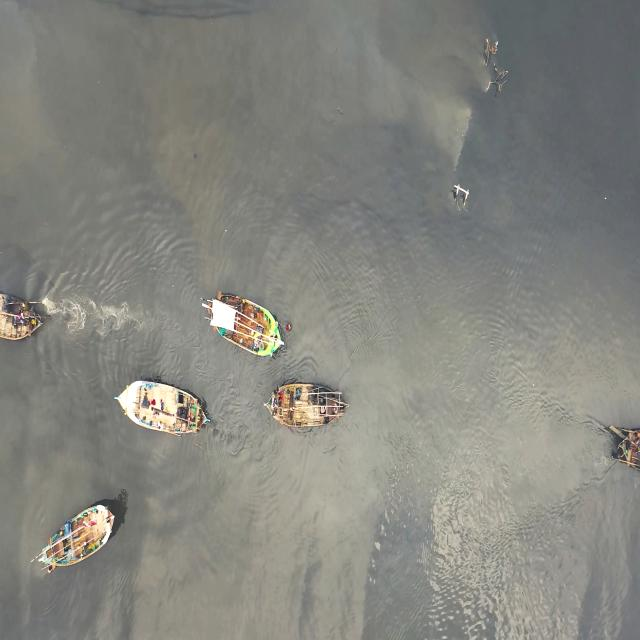ship: (25, 495, 125, 578), (112, 378, 212, 448), (208, 286, 284, 354), (270, 382, 347, 428), (609, 422, 640, 496), (0, 295, 44, 334)
